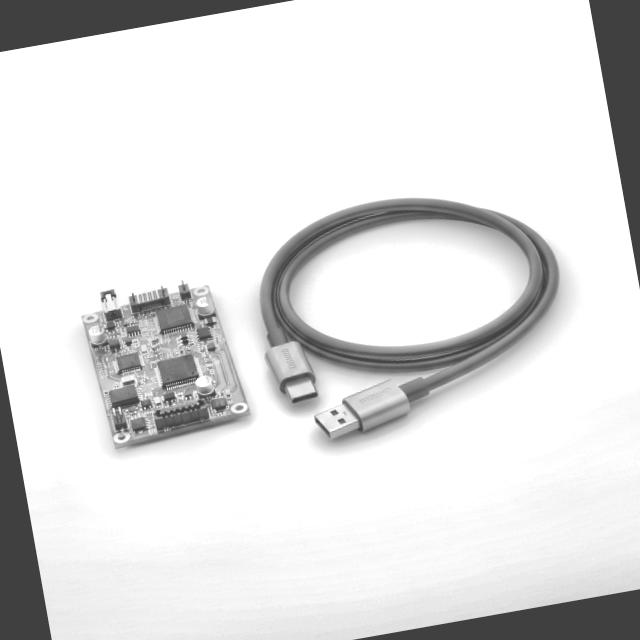Cable: (242, 161, 582, 452)
PCB: (76, 261, 250, 454)
